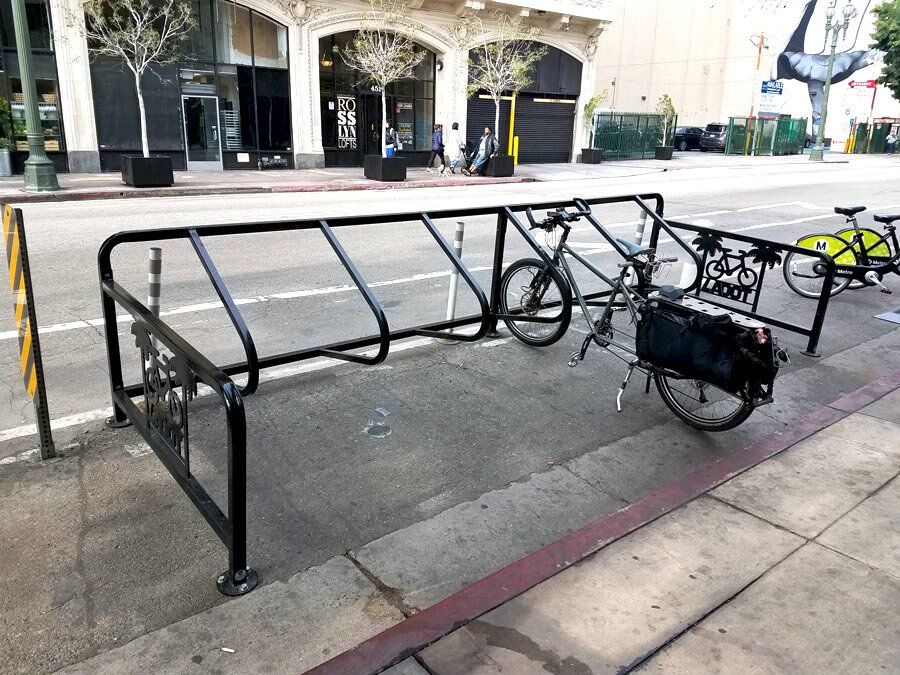Bicycle: (496, 199, 781, 437)
Tree: (79, 2, 199, 154)
